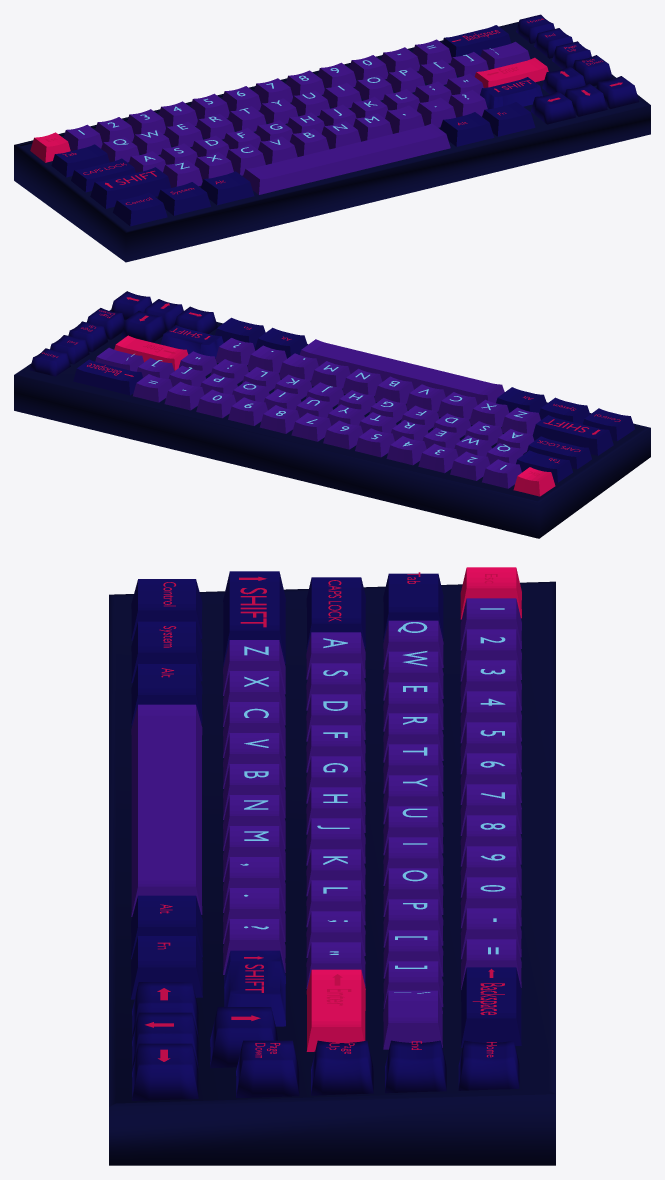
Rendered from teclado-65-gmk.glb.
3 views of the same model, one above another, from view 1: azimuth 30°, elevation 25°; view 2: azimuth 150°, elevation 25°; view 3: azimuth 270°, elevation 25° (orthographic). The views are drawn at different scales.
Visible parts, largest first — view 1: Cube.005, Mechanical Keyboard.014, Cube.001, Cube.024, Cube.021, Texto.023, Cube.025; view 2: Cube.005, Mechanical Keyboard.014, Cube.001, Cube.024, Cube.021, Texto.023, Cube.025; view 3: Cube.005, Mechanical Keyboard.014, Cube.001, Cube.024, Texto.023, Cube.021, Cube.025.
Part boxes in pixels (box(x1,y1,x2,y2)): Cube.005: box(30, 25, 548, 226); Mechanical Keyboard.014: box(14, 22, 650, 262); Cube.001: box(530, 66, 639, 124); Cube.024: box(516, 14, 591, 68); Cube.021: box(480, 77, 542, 109); Texto.023: box(78, 45, 498, 169); Cube.025: box(572, 55, 612, 86); Cube.005: box(73, 317, 634, 496); Mechanical Keyboard.014: box(14, 310, 650, 538); Cube.001: box(111, 291, 217, 342); Cube.024: box(29, 321, 107, 376); Cube.021: box(160, 325, 223, 357); Texto.023: box(126, 343, 527, 469); Cube.025: box(87, 308, 124, 339); Cube.005: box(131, 567, 521, 1051); Mechanical Keyboard.014: box(109, 581, 555, 1165); Cube.001: box(132, 982, 278, 1100); Cube.024: box(311, 1040, 519, 1095); Texto.023: box(240, 608, 505, 993); Cube.021: box(224, 950, 285, 1026); Cube.025: box(236, 1040, 299, 1097).
Bounding box in the file's own units: 0.3254 × 0.0287 × 0.12.
